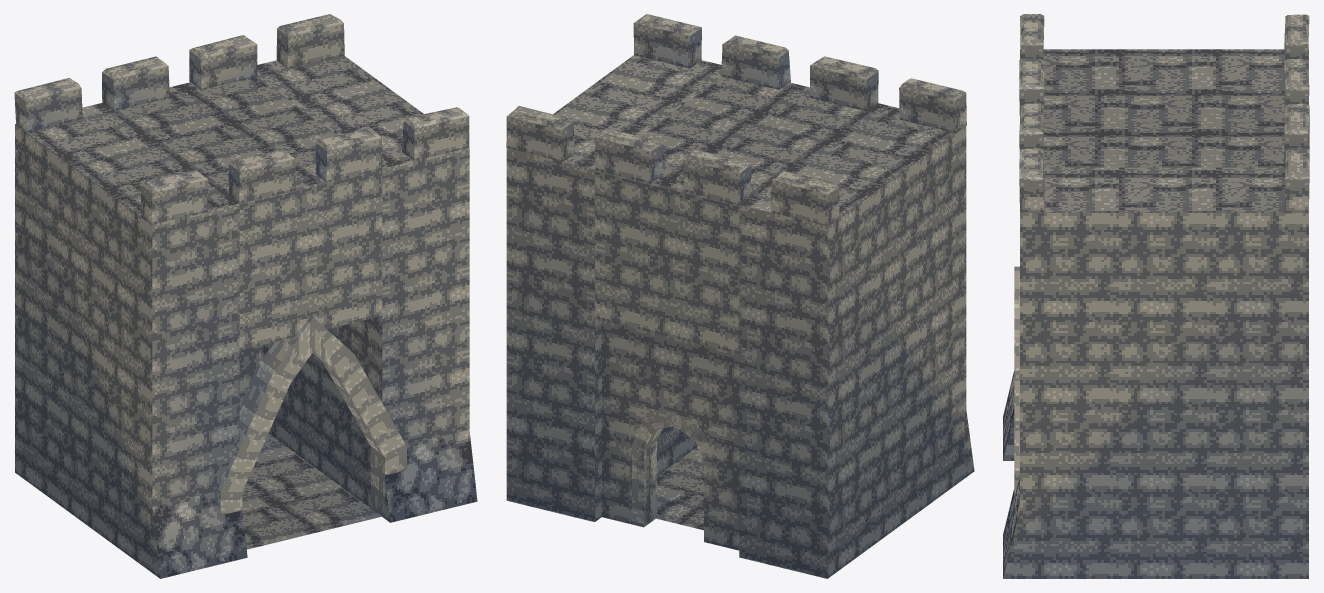
File: cst.gatehouse__crenellated.glb
3 renders of one model, left to right at view 1: azimuth 30°, elevation 25°; view 2: azimuth 150°, elevation 25°; view 3: azimuth 270°, elevation 25°, orthographic. The views are drawn at different scales.
Visible parts, largest first — view 1: kit_block, kit_top, kit_detail, kit_shell_passage_floor; view 2: kit_block, kit_top, kit_shell_passage_floor, kit_detail; view 3: kit_block, kit_top, kit_detail.
Boxes of the visible parts, x1,y1,x2,y2 form: kit_block: (15, 55, 477, 578); kit_top: (14, 14, 469, 224); kit_detail: (217, 315, 406, 518); kit_shell_passage_floor: (242, 433, 381, 549); kit_block: (506, 55, 974, 578); kit_top: (506, 14, 966, 225); kit_shell_passage_floor: (656, 447, 703, 530); kit_detail: (632, 413, 715, 541); kit_block: (1003, 49, 1308, 578); kit_top: (1019, 14, 1309, 213); kit_detail: (1014, 266, 1019, 497).
Size of the model in its own units: 8.04 by 9.25 by 6.37.
5 materials, 5 textured.
